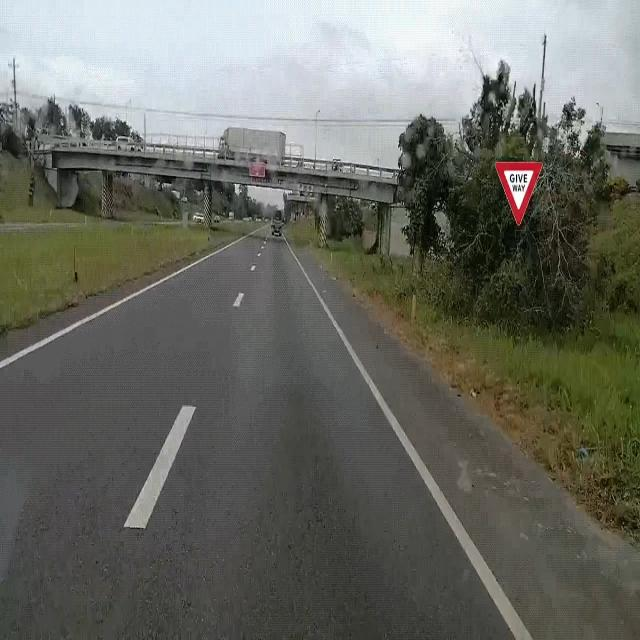Ceder-le-Passage: (492, 150, 552, 236)
